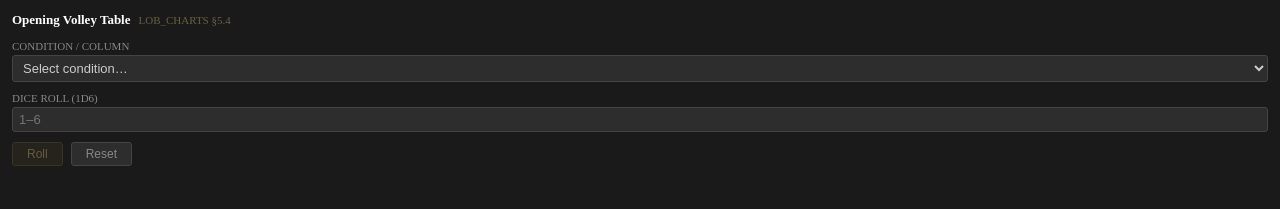
OpeningVolleyPanel › displays loading state while POST is in flight
This screenshot has width=1280, height=209.
Select "Charge" in the dropdown labelled "Condition / Column" at point(640, 68), box [12,55,1268,82]
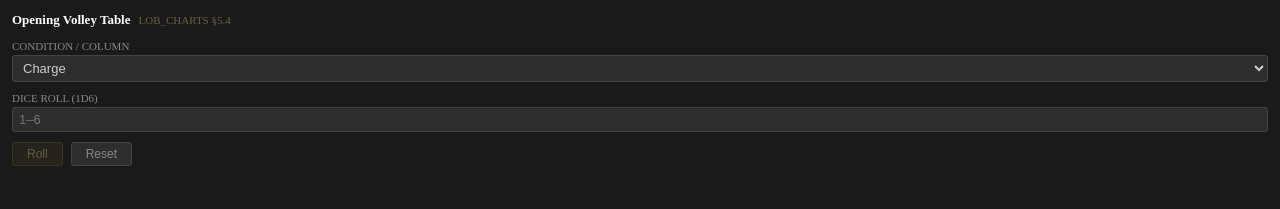
Type "5" into the number field labelled "Dice Roll (1d6)" at point(640, 120), box [12,107,1268,132]
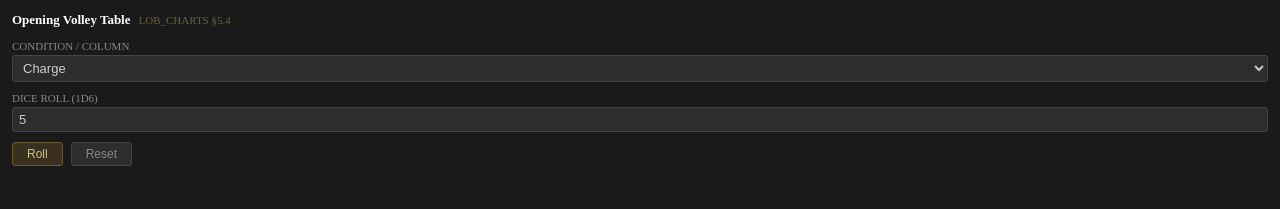
Click the button "Roll" at point(37, 154), box [12,142,63,166]
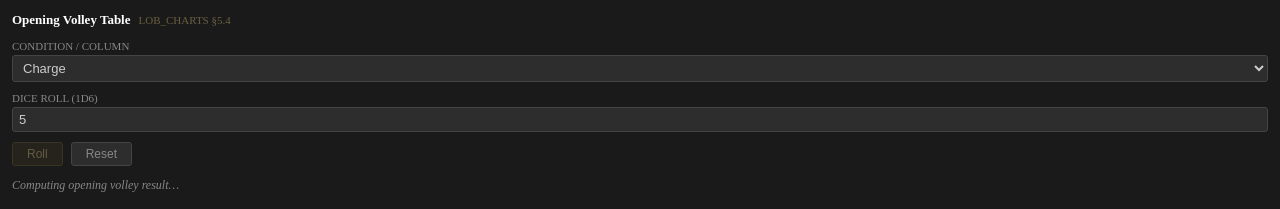
Expected: the text "Computing opening volley" is shown, [12,178,179,192]
